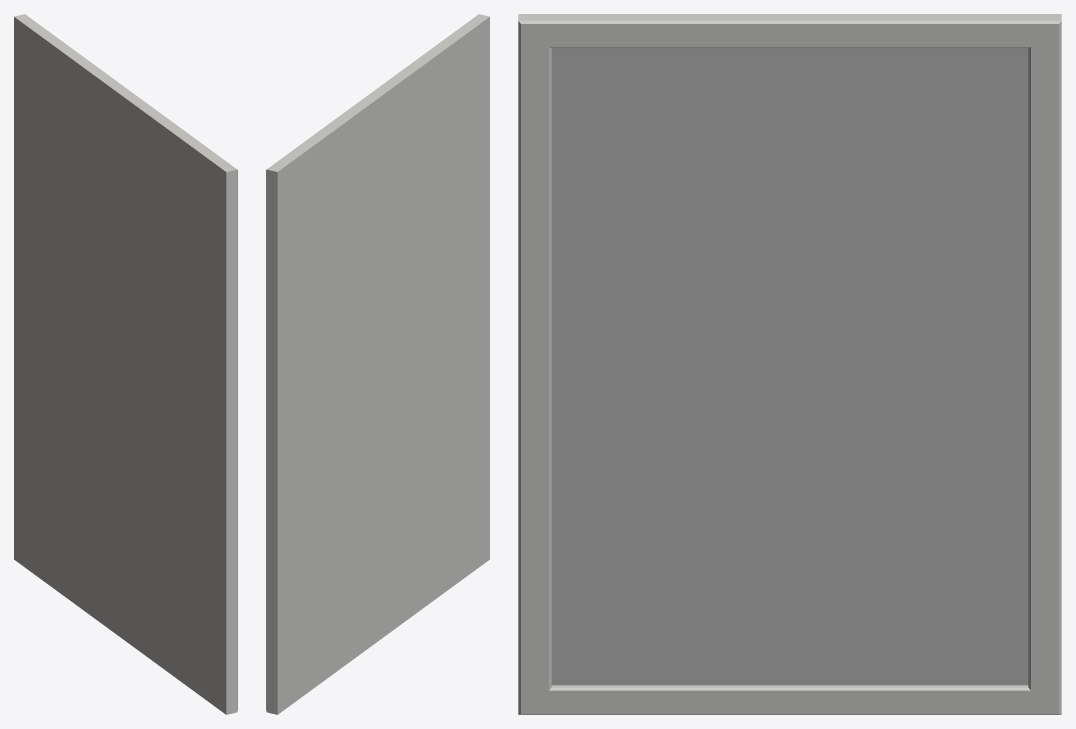
The model's file is mirror.obj.
3 renders of one model, left to right at view 1: azimuth 30°, elevation 25°; view 2: azimuth 150°, elevation 25°; view 3: azimuth 270°, elevation 25°, orthographic. The views are drawn at different scales.
Visible parts, largest first — view 1: Cube.030; view 2: Cube.030; view 3: Cube.030.
Part boxes in pixels (x1,y1,x2,y2): Cube.030: (14, 14, 237, 714); Cube.030: (266, 14, 489, 714); Cube.030: (518, 14, 1061, 714).
Size of the model in its own units: 0.0164 by 0.6754 by 0.479.
